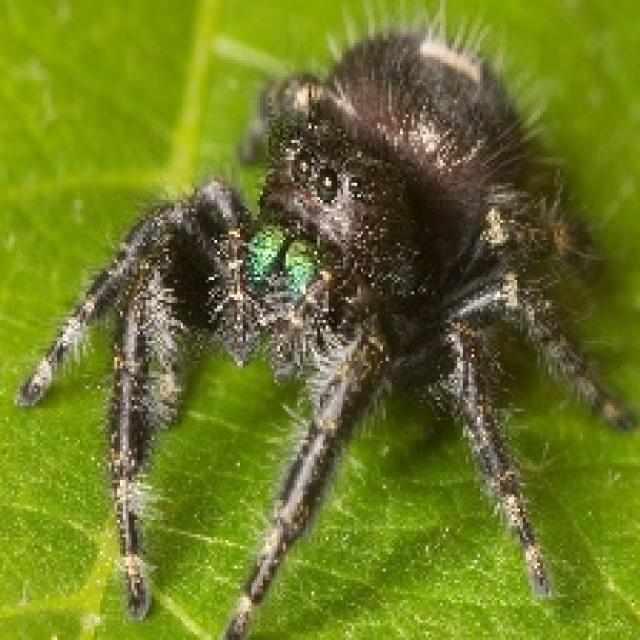Non venomous spider: (18, 0, 640, 639)
